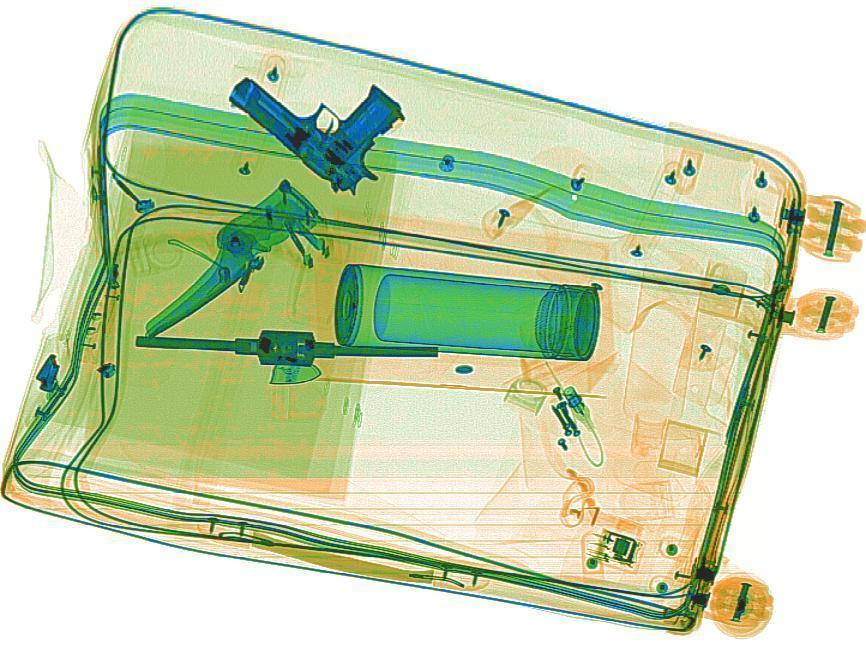Gun: (208, 33, 448, 199)
